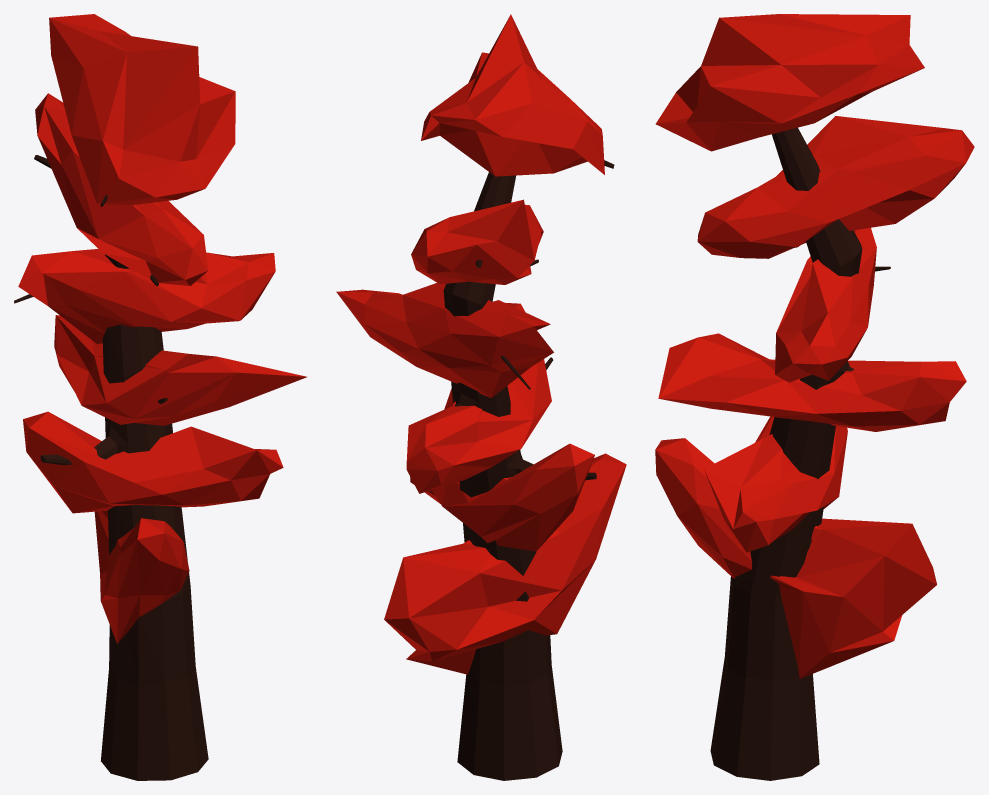
The model's file is t5-orange.obj.
3 views of the same model, side by side, from view 1: azimuth 30°, elevation 25°; view 2: azimuth 150°, elevation 25°; view 3: azimuth 270°, elevation 25° (orthographic). The views are drawn at different scales.
Visible parts, largest first — view 1: t5-orange_Icosphere.023; view 2: t5-orange_Icosphere.023; view 3: t5-orange_Icosphere.023.
Boxes of the visible parts, box(x1,y1,x2,y2) form: t5-orange_Icosphere.023: box(14, 14, 306, 780); t5-orange_Icosphere.023: box(336, 14, 626, 780); t5-orange_Icosphere.023: box(655, 14, 974, 780).
Size of the model in its own units: 3.58 by 9.84 by 3.79.
